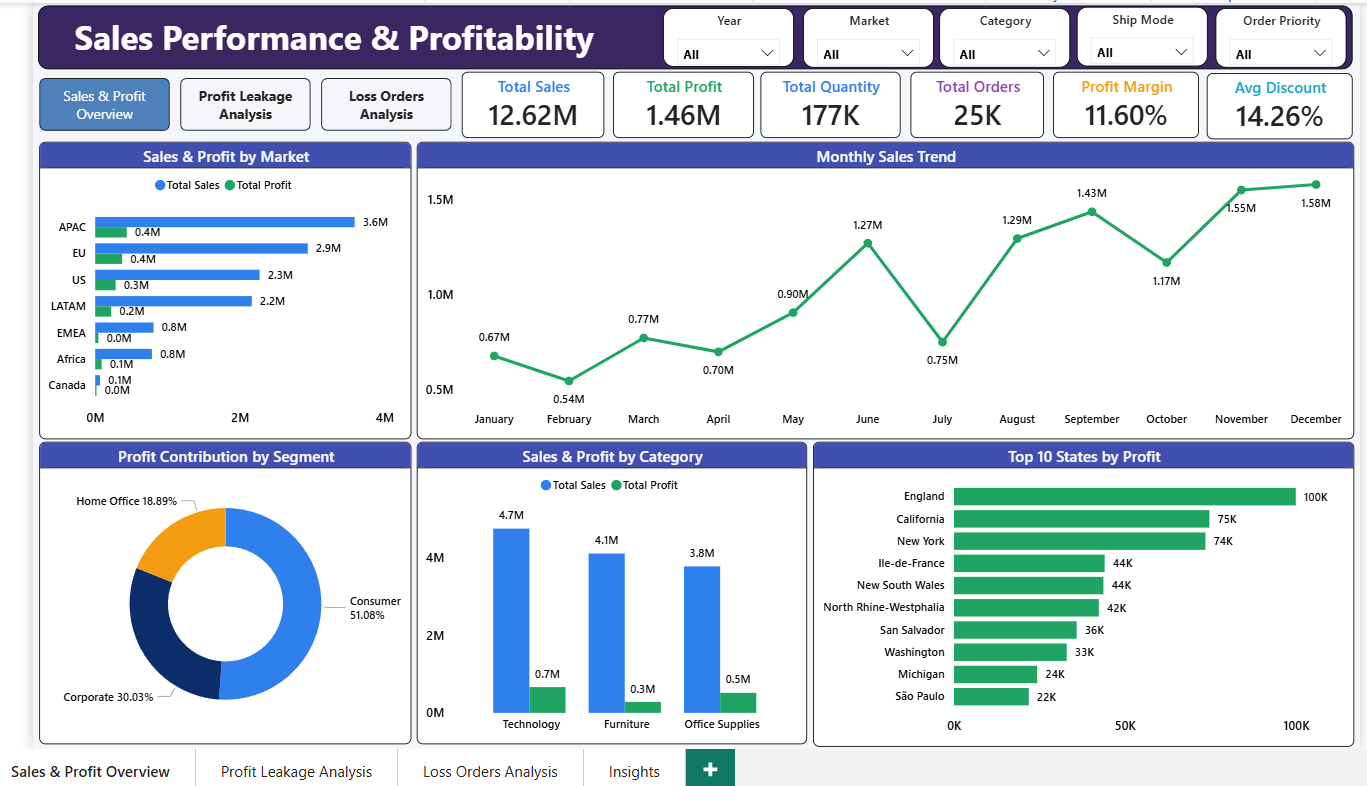

What the dashboard file says about the page in this screenshot:
{"tool":"powerbi","page":{"name":"Sales & Profit Overview","canvas":[1280,720],"ordinal":0},"visuals":[{"type":"card","title":"Total Sales","fields":{"Values":["sales_data.Total Sales"]},"box":[413.8,66.4,137.5,63.9],"z":0},{"type":"card","title":"Total Profit","fields":{"Values":["sales_data.Total Profit"]},"box":[559.8,66.4,136.3,63.9],"z":1000},{"type":"card","title":"Total Orders","fields":{"Values":["sales_data.Total Orders"]},"box":[846.9,66.4,129.1,63.9],"z":2000},{"type":"card","title":"Total Quantity","fields":{"Values":["sales_data.Total Quantity"]},"box":[702.1,66.4,135.1,63.9],"z":3000},{"type":"card","title":"Profit Margin","fields":{"Values":["sales_data.Profit Margin"]},"box":[984.5,66.4,141.2,63.9],"z":4000},{"type":"card","title":"Avg Discount","fields":{"Values":["sales_data.Avg Discount"]},"box":[1132.8,67.6,141.2,63.9],"z":5000},{"type":"clusteredBarChart","title":"Sales & Profit by Market","fields":{"Y":["sales_data.Total Sales","sales_data.Total Profit"],"Category":["sales_data.market"]},"box":[6,133.9,359.5,287.1],"z":6000},{"type":"clusteredColumnChart","title":"Sales & Profit by Category","fields":{"Category":["sales_data.category"],"Y":["sales_data.Total Sales","sales_data.Total Profit"]},"box":[370.4,423.5,376.4,292],"z":7000},{"type":"donutChart","title":"Profit Contribution by Segment","fields":{"Category":["sales_data.segment"],"Y":["sales_data.Total Profit"]},"box":[6,423.5,359.5,292],"z":8000},{"type":"lineChart","title":"Monthly Sales Trend","fields":{"Category":["sales_data.Month Name"],"Y":["sales_data.Total Sales"]},"box":[370.4,133.9,904.8,287.1],"z":9000},{"type":"barChart","title":"Top 10 States by Profit","fields":{"Category":["sales_data.state"],"Y":["sales_data.Total Profit"]},"box":[752.8,423.5,522.4,294.4],"z":10000},{"type":"textbox","box":[4.8,2.4,1269.2,61.5],"z":11000},{"type":"slicer","title":"Category","fields":{"Values":["sales_data.category"]},"box":[874.7,4.8,126.7,57.9],"z":12000},{"type":"slicer","title":"Ship Mode","fields":{"Values":["sales_data.ship_mode"]},"box":[1007.4,3.6,126.7,57.9],"z":13000},{"type":"slicer","title":"Order Priority","fields":{"Values":["sales_data.order_priority"]},"box":[1141.3,4.8,126.7,57.9],"z":14000},{"type":"slicer","title":"Market","fields":{"Values":["sales_data.market"]},"box":[743.2,4.8,126.7,57.9],"z":15000},{"type":"pageNavigator","box":[6,72.4,399.3,51.9],"z":16000},{"type":"slicer","title":"Year","fields":{"Values":["sales_data.Year"]},"box":[608,4.8,126.7,56.7],"z":16001}]}

Visuals, with their boxes on the page's 1280x720 design canvas (x1, y1, x2, y2). These are canvas units, not pixel positions in the 1367x786 screenshot, which may show the page scaled, cropped or inside an application window:
"Total Sales" card: left=414, top=66, right=551, bottom=130
"Total Profit" card: left=560, top=66, right=696, bottom=130
"Total Orders" card: left=847, top=66, right=976, bottom=130
"Total Quantity" card: left=702, top=66, right=837, bottom=130
"Profit Margin" card: left=984, top=66, right=1126, bottom=130
"Avg Discount" card: left=1133, top=68, right=1274, bottom=132
"Sales & Profit by Market" clusteredBarChart: left=6, top=134, right=366, bottom=421
"Sales & Profit by Category" clusteredColumnChart: left=370, top=424, right=747, bottom=716
"Profit Contribution by Segment" donutChart: left=6, top=424, right=366, bottom=716
"Monthly Sales Trend" lineChart: left=370, top=134, right=1275, bottom=421
"Top 10 States by Profit" barChart: left=753, top=424, right=1275, bottom=718
textbox: left=5, top=2, right=1274, bottom=64
"Category" slicer: left=875, top=5, right=1001, bottom=63
"Ship Mode" slicer: left=1007, top=4, right=1134, bottom=62
"Order Priority" slicer: left=1141, top=5, right=1268, bottom=63
"Market" slicer: left=743, top=5, right=870, bottom=63
pageNavigator: left=6, top=72, right=405, bottom=124
"Year" slicer: left=608, top=5, right=735, bottom=62
